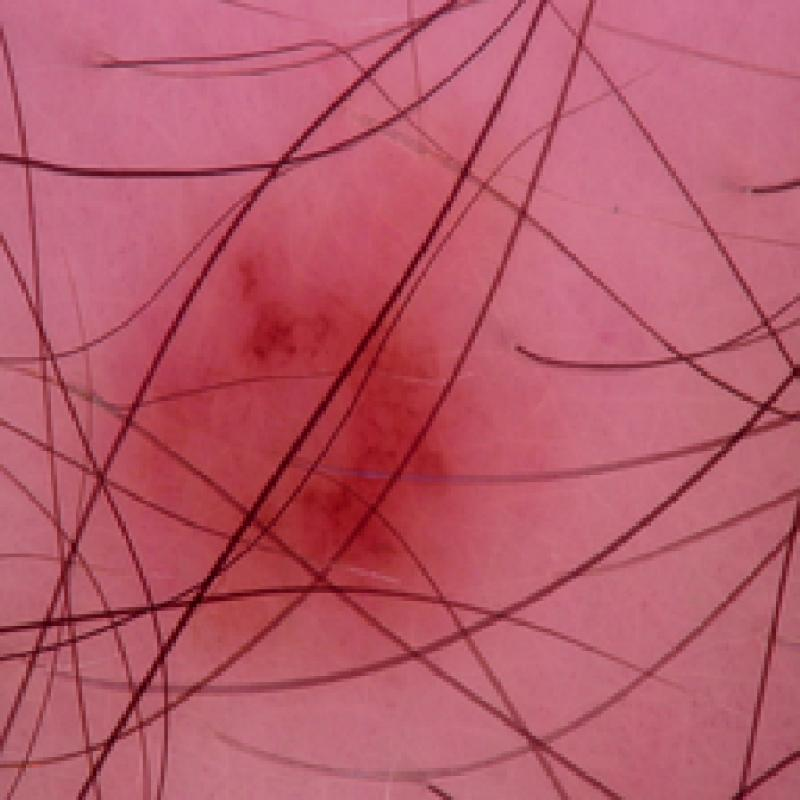benign: (146, 195, 522, 630)
